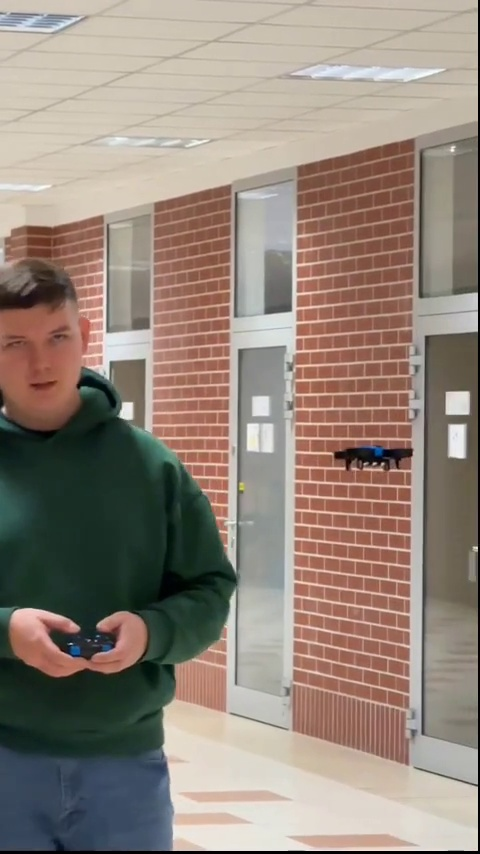drone: (330, 445, 415, 473)
no vest: (0, 254, 226, 848)
